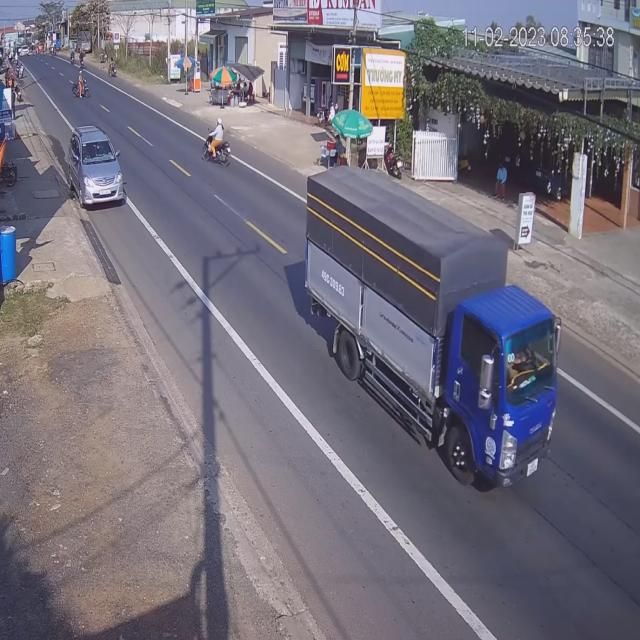car: (67, 127, 125, 211)
motorbike: (205, 120, 232, 170), (76, 76, 88, 100)
truck: (300, 165, 560, 492)
